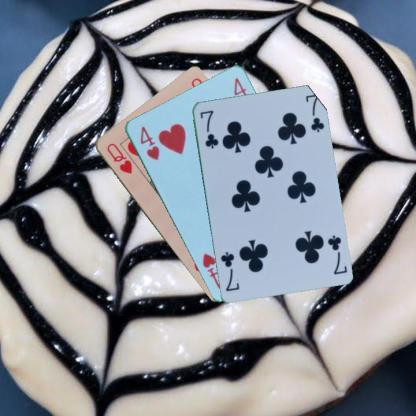4h: (137, 123, 161, 162)
7c: (325, 232, 348, 276), (197, 108, 220, 150)
Qh: (104, 140, 134, 175)
